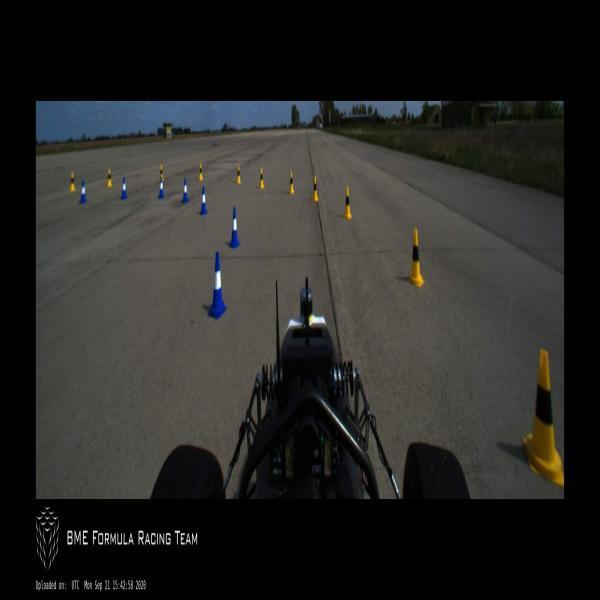blue_cone: (208, 251, 228, 318), (228, 207, 241, 248), (200, 186, 207, 214), (120, 177, 128, 200), (182, 178, 189, 202), (80, 180, 86, 204), (158, 177, 164, 198)
yellow_cone: (524, 350, 564, 484), (409, 228, 424, 288), (344, 186, 352, 219), (313, 176, 318, 202), (70, 172, 76, 192), (289, 171, 294, 193), (259, 168, 264, 188), (236, 164, 241, 184), (107, 168, 112, 188), (159, 164, 164, 182), (198, 163, 203, 180)
